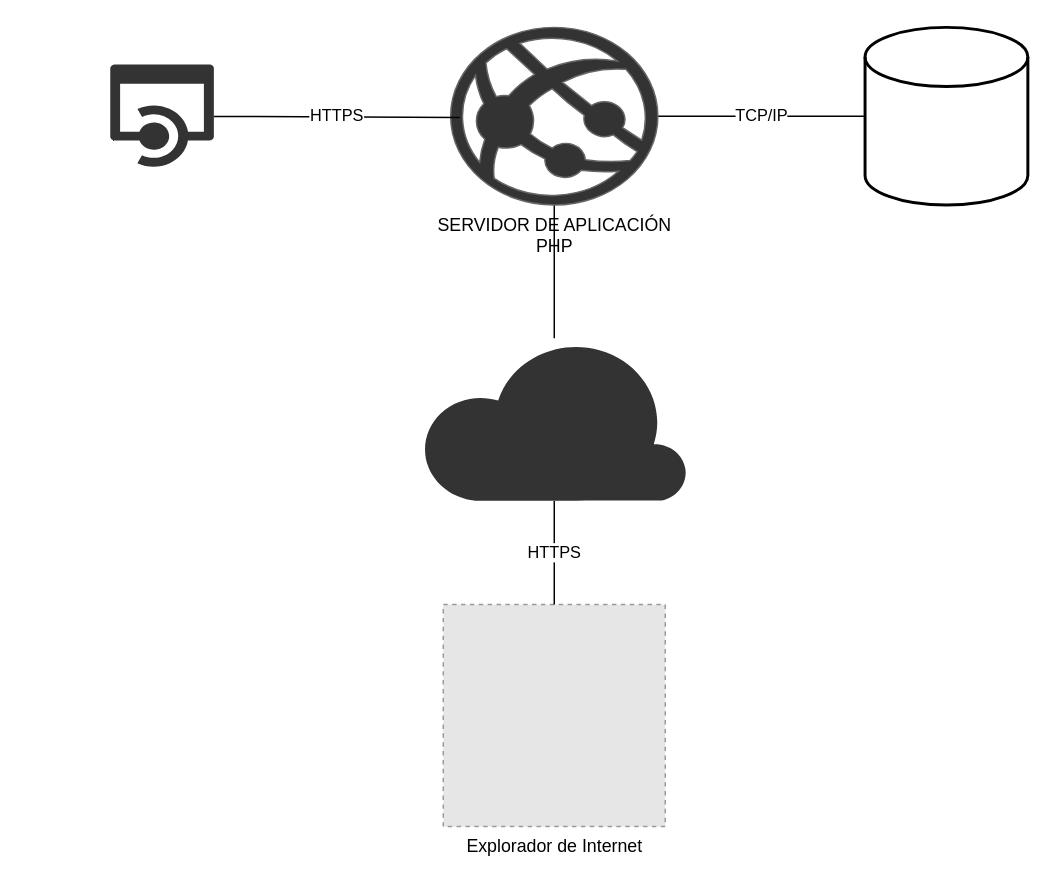
The diagram is 1055 pixels wide and 882 high, and some of its shapes have lost their labels. Grey dashed boxes stand in for pictures. The shapes that lost their labels are listed below. From the top down, each one's centre as x and y in pixels, then its label:
the point at 161,115: API de Consejo Supremo Electoral
the point at 946,115: Database Server MySQL
